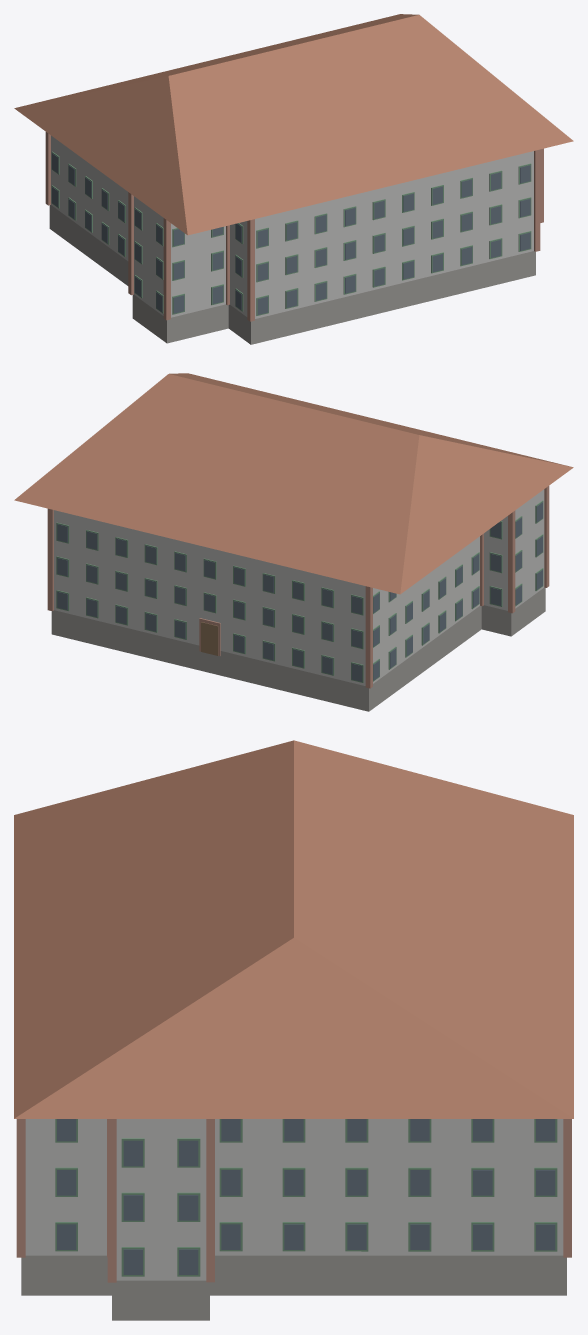
File: landmark-manor-schloss-buergeln.glb
3 renders of one model, top to bottom at view 1: azimuth 30°, elevation 25°; view 2: azimuth 150°, elevation 25°; view 3: azimuth 270°, elevation 25°, orthographic. The views are drawn at different scales.
Parts seen in each view (by area): view 1: building; view 2: building; view 3: building.
Part boxes in pixels (x1,y1,x2,y2): building: (14,14,573,344); building: (14,373,573,711); building: (14,740,573,1320).
Bounding box in the file's own units: 40.73 × 20.8 × 31.73.
